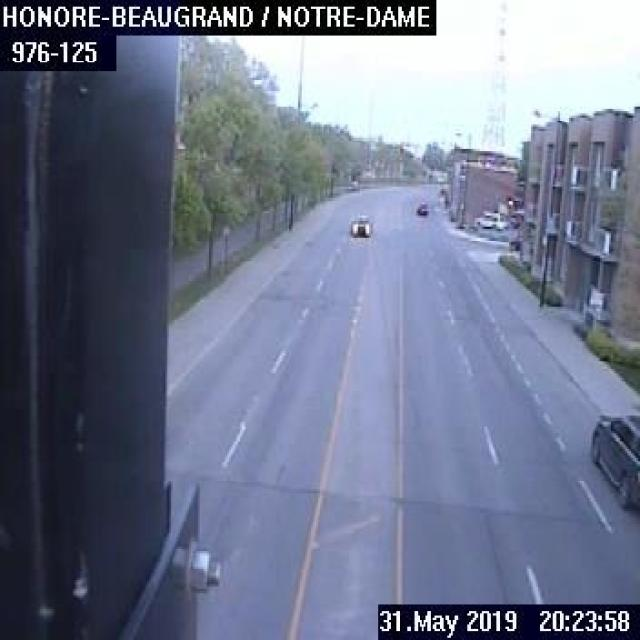vehicle: (589, 410, 638, 510), (472, 208, 507, 230), (348, 212, 370, 235), (415, 200, 428, 214)
